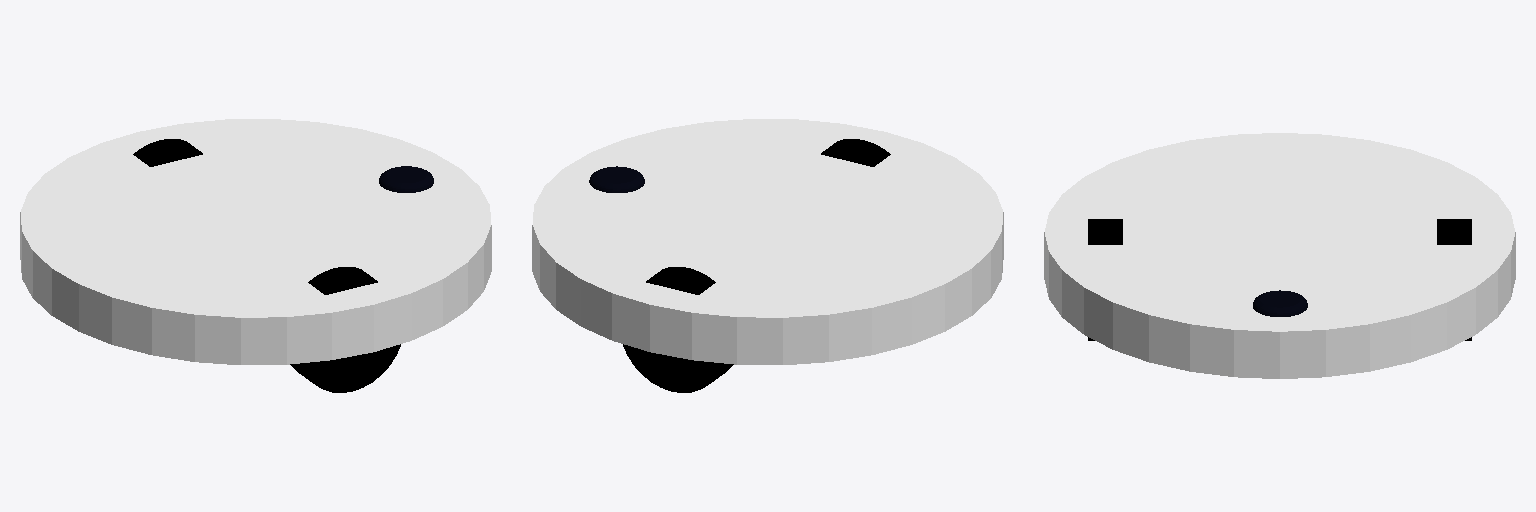
URDF robot description (mycar):
<robot name="mycar">  
  <link name="base_link">  
    <visual>  
       <geometry>  
          <cylinder length=".06" radius="0.27"></cylinder>  
       </geometry>  
       <origin rpy="0 0 0" xyz="0 0 0.1"/>  
       <material name="white">  
         <color rgba="1 1 1 1"/>  
       </material>  
    </visual>  
  </link>  
  
  <link name="right">  
    <visual>  
      <geometry>  
        <cylinder length="0.04" radius="0.07"/>  
      </geometry>  
      <origin rpy="1.5707  0  0" xyz="0 0 0"/>  
      <material name="black">  
        <color rgba="0 0 0 1"/>  
      </material>  
    </visual>  
  </link>  
  
  <link name="left">  
    <visual>  
      <geometry>  
        <cylinder length="0.04" radius="0.07"/>  
      </geometry>  
      <origin rpy="1.5707  0  0" xyz="0 0 0"/>  
      <material name="black"/>  
    </visual>  
  </link>  
  
  <joint name="right" type="continuous"> 
    <origin rpy="0  0  0" xyz="0 -0.2 0.07"/>   
    <parent link="base_link"/>  
    <child link="right"/>  
  </joint>  
  
  <joint name="left" type="continuous">  
    <origin rpy="0 0 0" xyz="0 0.2 0.07"/>
    <parent link="base_link"/>  
    <child link="left"/>   
  </joint>  
 
 <link name="rplidar">
    <inertial>
      <mass value="1e-5"/>
      <origin rpy="0 0 0" xyz="0 0 0"/>
      <inertia ixx="1e-6" ixy="0" ixz="0" iyy="1e-6" iyz="0" izz="1e-6"/>
    </inertial>
    <visual>
      <origin rpy="0 0 0" xyz="0 0 0"/>
      <geometry>
        <mesh filename="package://urdf_demo/urdf/rplidar.dae"/>
      </geometry>
    </visual>
    <collision>
      <origin rpy="0 0 0" xyz="0 0 0"/>
      <geometry>
        <cylinder length=".04" radius="0.035"></cylinder>  
      </geometry>
    </collision>
  </link>
  <joint name="rplidar_joint" type="fixed">
    <axis xyz="0 1 0"/>
    <origin xyz="0.2 0 0.12"/>
    <parent link="base_link"/>
    <child link="rplidar"/>
  </joint>

</robot>  

--- Render facts (derived) ---
Views: 3 orthographic renders of the robot side by side, from view 1: azimuth 30°, elevation 25°; view 2: azimuth 150°, elevation 25°; view 3: azimuth 270°, elevation 25°.
Model mycar with 4 links and 3 joints (2 continuous, 1 fixed), rooted at base_link, posed all joints at 0.
Links seen in each view (by area): view 1: base_link, right, left, rplidar; view 2: base_link, left, right, rplidar; view 3: base_link, rplidar, right, left.
Link boxes in pixels (box(x1,y1,x2,y2)): base_link: box(20, 119, 491, 364); right: box(290, 267, 400, 392); left: box(133, 139, 202, 166); rplidar: box(379, 166, 433, 192); base_link: box(532, 119, 1003, 364); left: box(623, 267, 733, 392); right: box(821, 139, 890, 166); rplidar: box(589, 166, 644, 192); base_link: box(1044, 133, 1515, 378); rplidar: box(1253, 290, 1307, 316); right: box(1088, 219, 1122, 340); left: box(1437, 219, 1471, 340).
Bounding box of the posed robot: 0.54 × 0.54 × 0.14 m (x, y, z).
Meshes: 1 distinct files referenced, 1 mesh visuals loaded (1 Collada DAE).